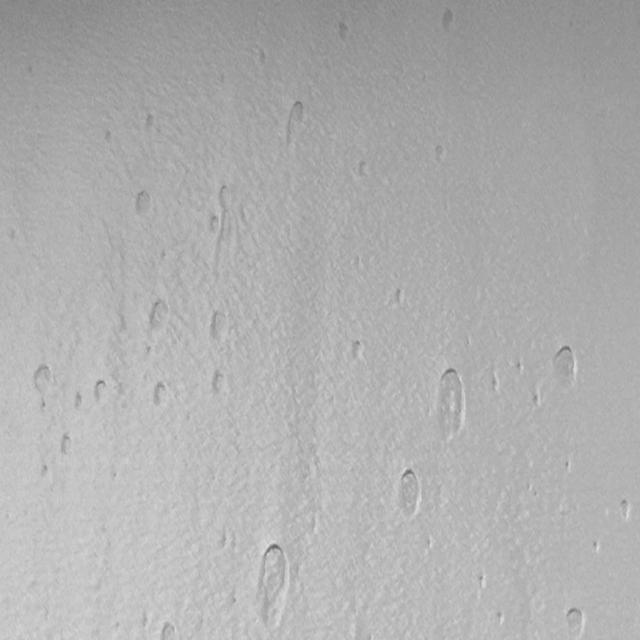pin holes: (252, 542, 292, 632), (432, 359, 472, 443), (396, 468, 424, 516), (551, 347, 583, 387), (281, 102, 307, 150), (30, 361, 58, 404), (148, 298, 172, 332), (564, 604, 588, 637), (207, 308, 230, 341), (150, 381, 172, 410), (134, 188, 155, 218), (90, 379, 111, 406), (438, 6, 458, 33), (211, 369, 231, 396), (349, 339, 368, 364), (205, 211, 224, 236), (58, 432, 76, 458), (336, 20, 354, 44), (355, 157, 373, 180), (144, 112, 161, 136), (617, 498, 633, 522), (216, 182, 232, 206), (158, 621, 178, 640), (391, 284, 407, 307), (40, 462, 55, 486), (433, 145, 450, 165), (72, 393, 84, 412), (142, 343, 155, 360), (532, 392, 544, 410), (590, 538, 601, 556), (102, 130, 115, 145), (477, 573, 487, 592), (492, 373, 502, 392), (496, 610, 507, 627), (562, 459, 573, 476), (514, 361, 526, 376), (222, 525, 228, 551)
